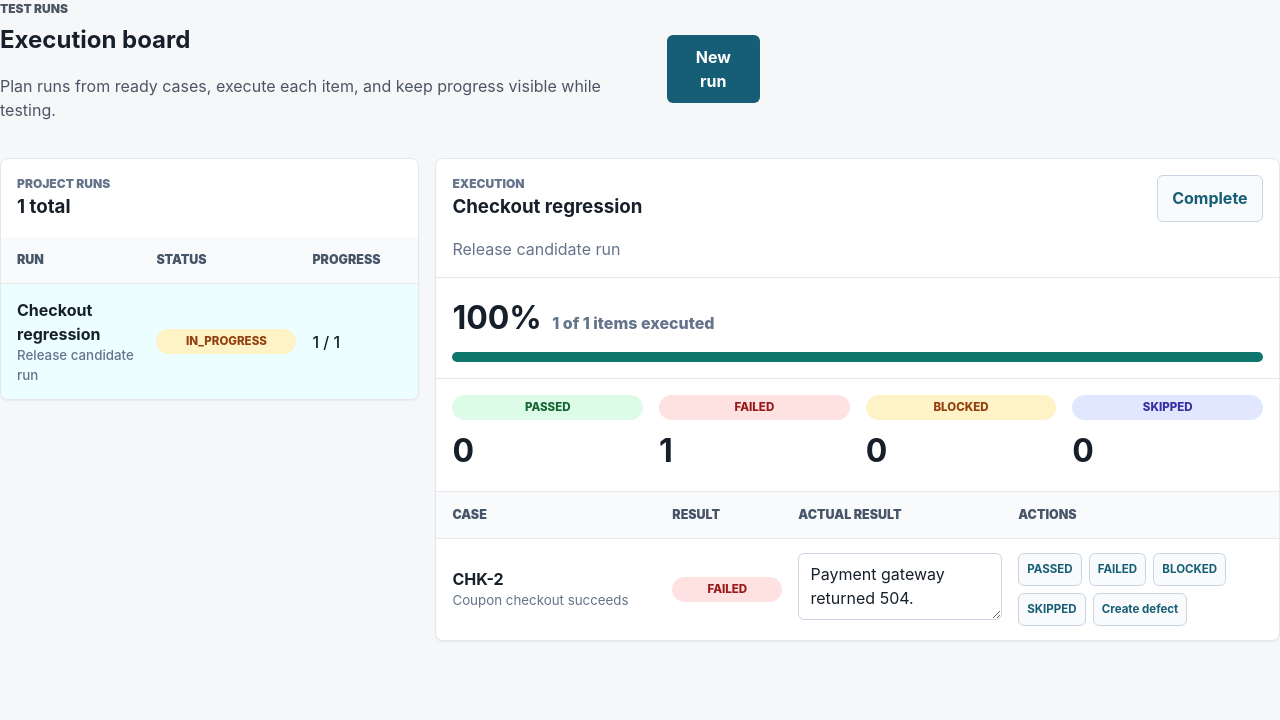
TestRunsPage › creates a defect from a failed run item
Click the button with test id "create-defect-item-2" at (1140, 609), box [1093,593,1187,626]
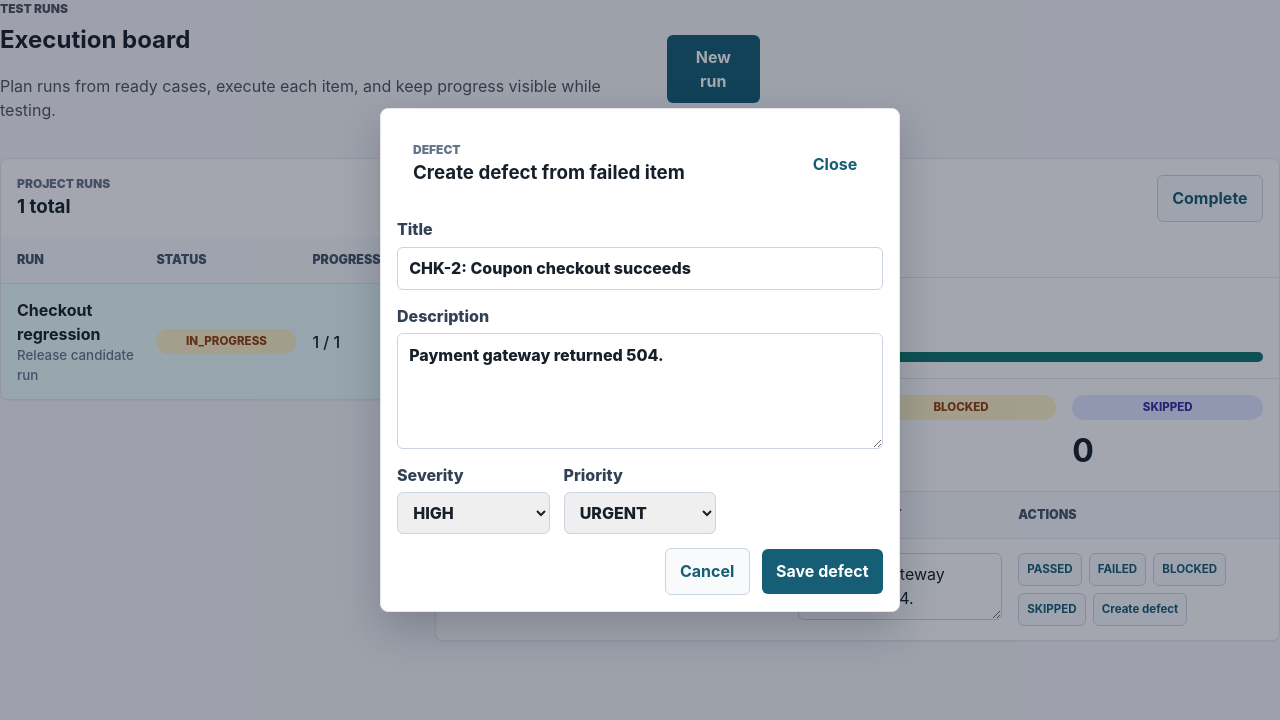
Replace the text in the field with test id "run-item-defect-title-input" with "CHK-2: Coupon checkout fails" at (640, 268), box [397,247,883,290]
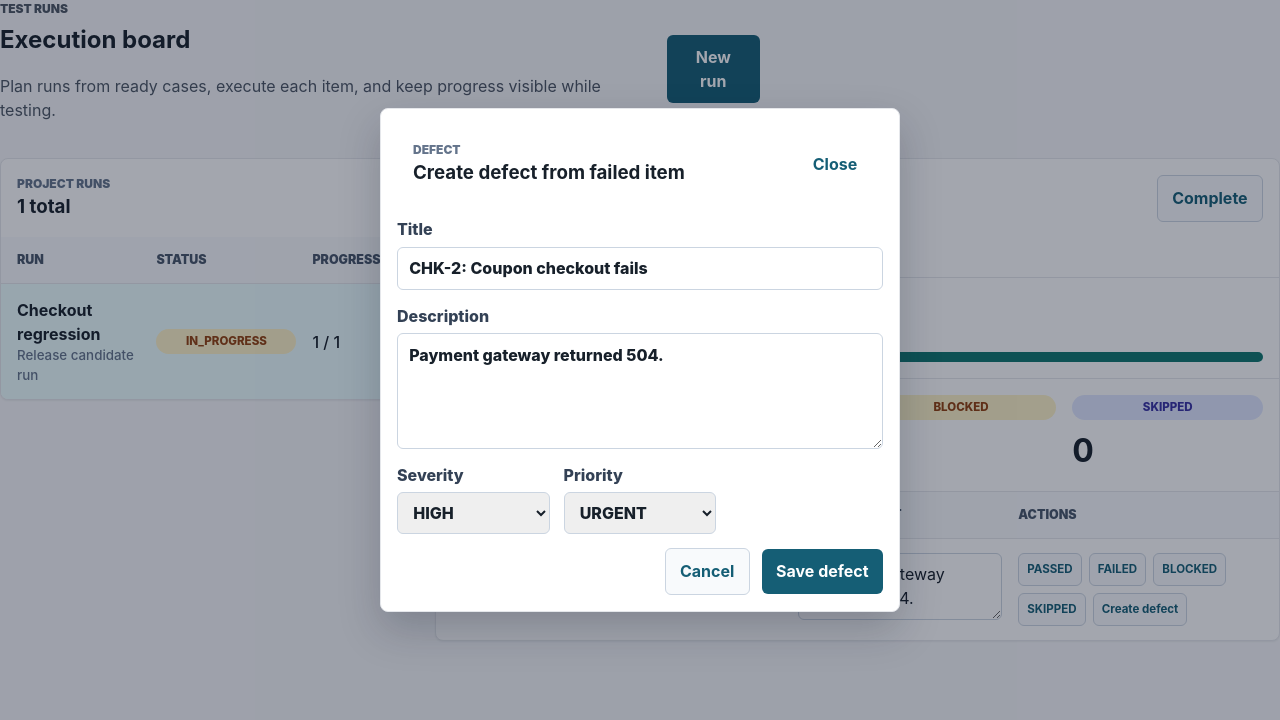
Submit the form with test id "run-item-defect-form", box [380,108,900,612]
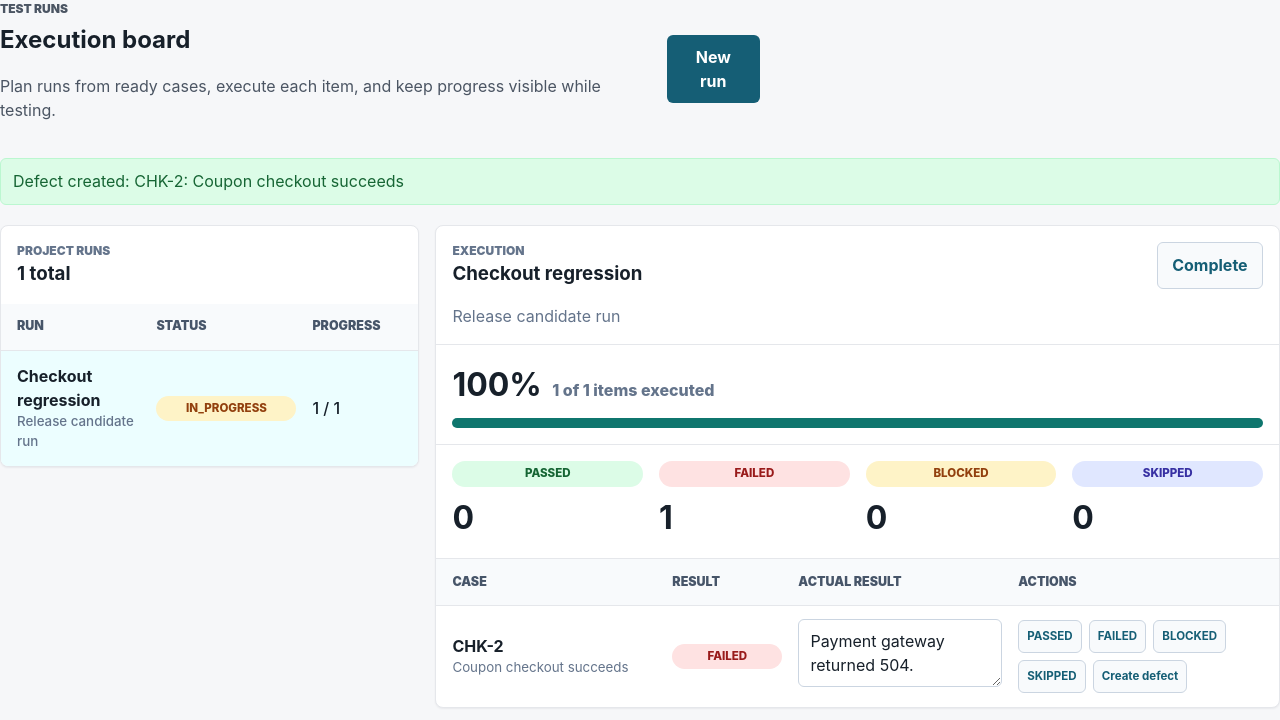
Expected: the text with test id "run-defect-notice" shows "Defect created", [13,171,404,191]
